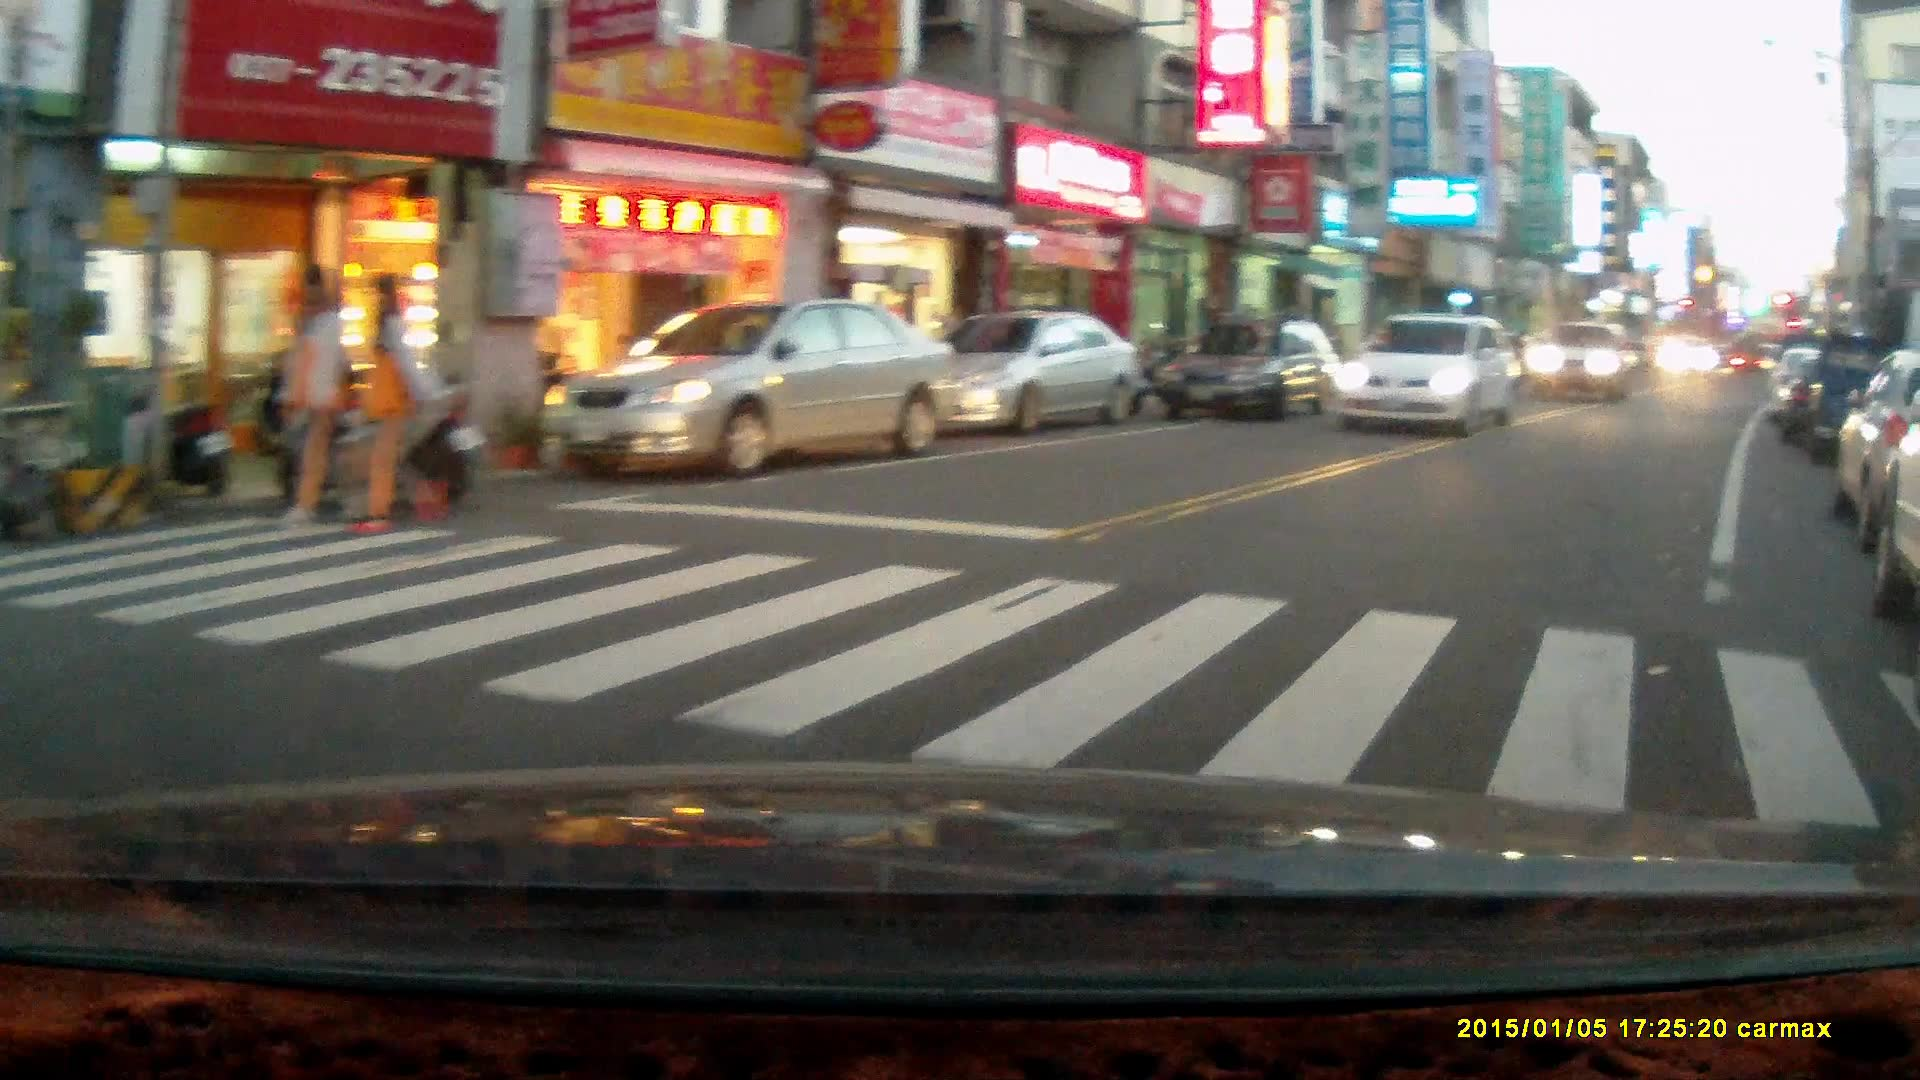pedestrian: (333, 275, 452, 538), (279, 264, 360, 530)
vehicle: (541, 299, 956, 478), (897, 312, 1141, 434), (1331, 312, 1521, 437), (1158, 324, 1348, 429), (1519, 320, 1644, 406), (1658, 335, 1720, 384)
